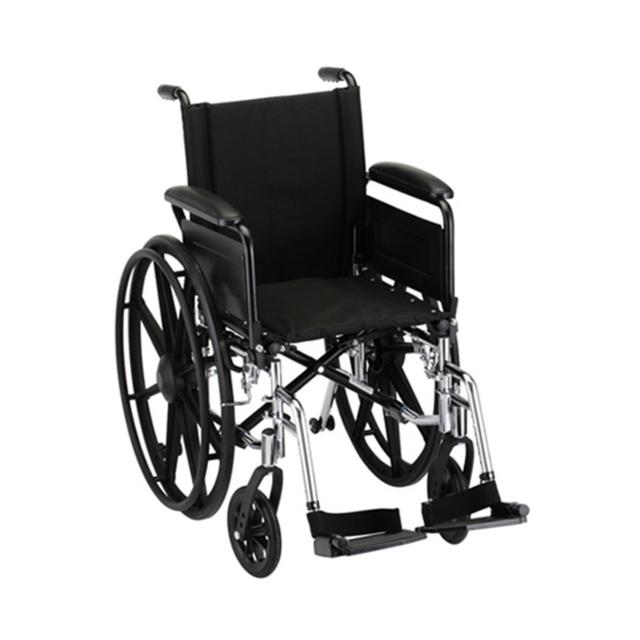wheelchair: (112, 52, 539, 594)
